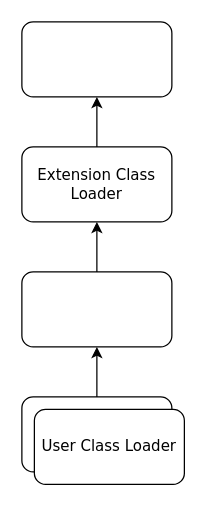
Image size: 206x506. Some labels were removed from this diagram. The centre of each missing label's shape, as x and y in pixels:
"Application Class Loader" belongs at [96,309].
"Bootstrap Class Loader" belongs at [96,59].
